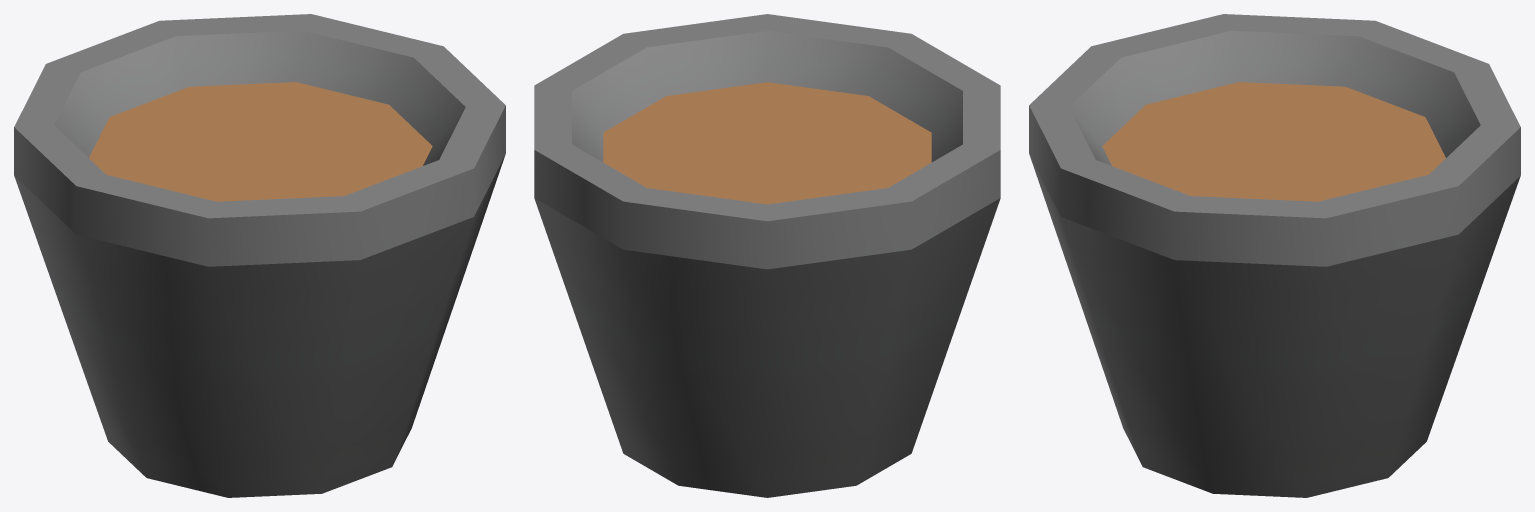
Rendered from PlantPot_5_A.glb.
3 views of the same model, side by side, from view 1: azimuth 30°, elevation 25°; view 2: azimuth 150°, elevation 25°; view 3: azimuth 270°, elevation 25° (orthographic).
Visible parts, largest first — view 1: PlantPot_5_A; view 2: PlantPot_5_A; view 3: PlantPot_5_A.
Boxes of the visible parts, x1,y1,x2,y2 form: PlantPot_5_A: (14, 14, 505, 497); PlantPot_5_A: (534, 14, 1000, 497); PlantPot_5_A: (1029, 14, 1520, 497).
Size of the model in its own units: 0.1893 by 0.1376 by 0.1924.
Materials: 1 (1 with a texture image).
